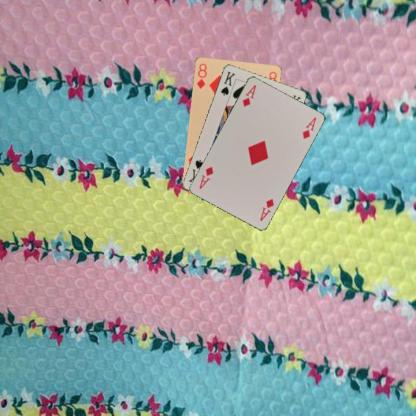8d: (194, 61, 208, 90)
Ad: (257, 196, 275, 222), (240, 82, 257, 108)
Ks: (218, 69, 236, 96)
